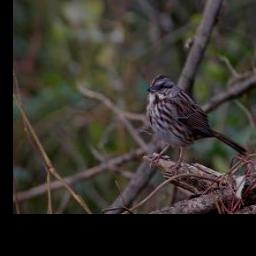Sparrow: (145, 73, 249, 171)
